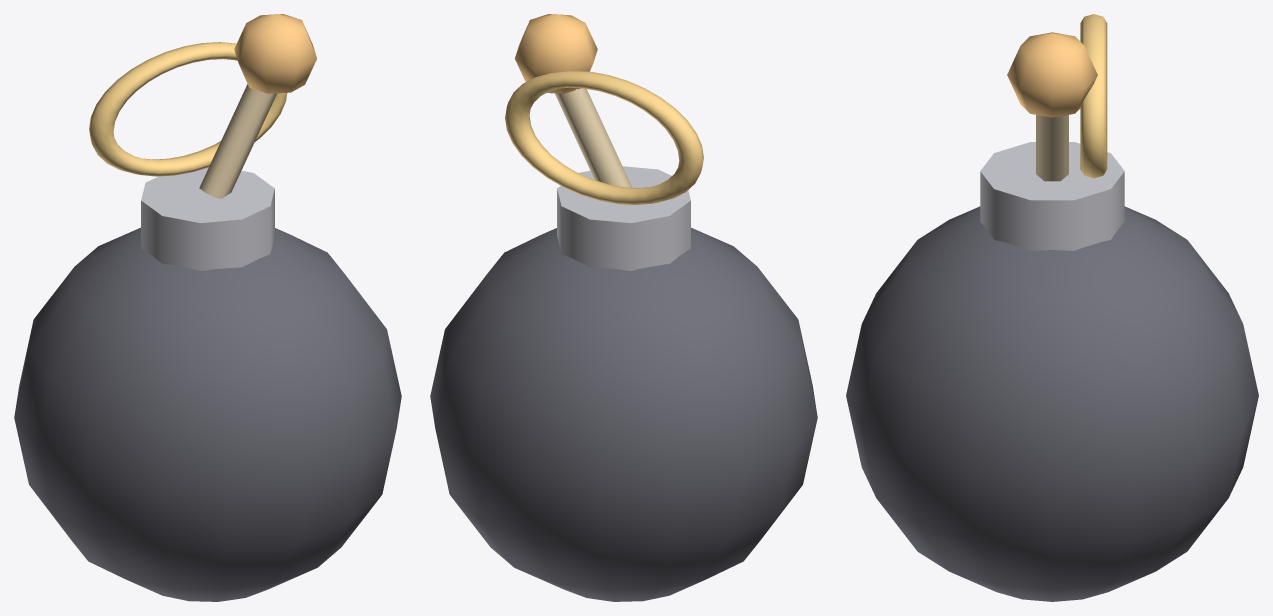
Rendered from bob_right.glb.
3 renders of one model, left to right at view 1: azimuth 30°, elevation 25°; view 2: azimuth 150°, elevation 25°; view 3: azimuth 270°, elevation 25°, orthographic. The views are drawn at different scales.
Parts seen in each view (by area): view 1: bob_right; view 2: bob_right; view 3: bob_right.
Boxes of the visible parts, bbox=[...] form: bob_right: bbox=[14, 14, 401, 601]; bob_right: bbox=[430, 14, 817, 601]; bob_right: bbox=[846, 14, 1258, 601].
Bounding box in the file's own units: 0.2 × 0.312 × 0.2.
